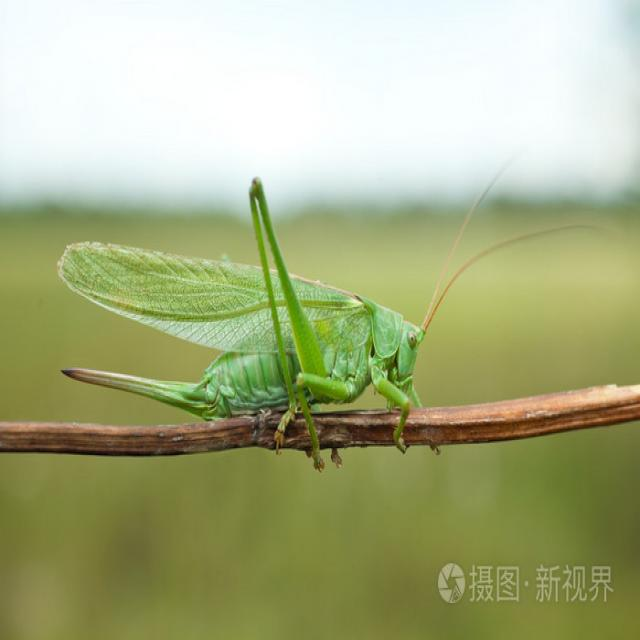ZhaMeng: (61, 180, 464, 468)
